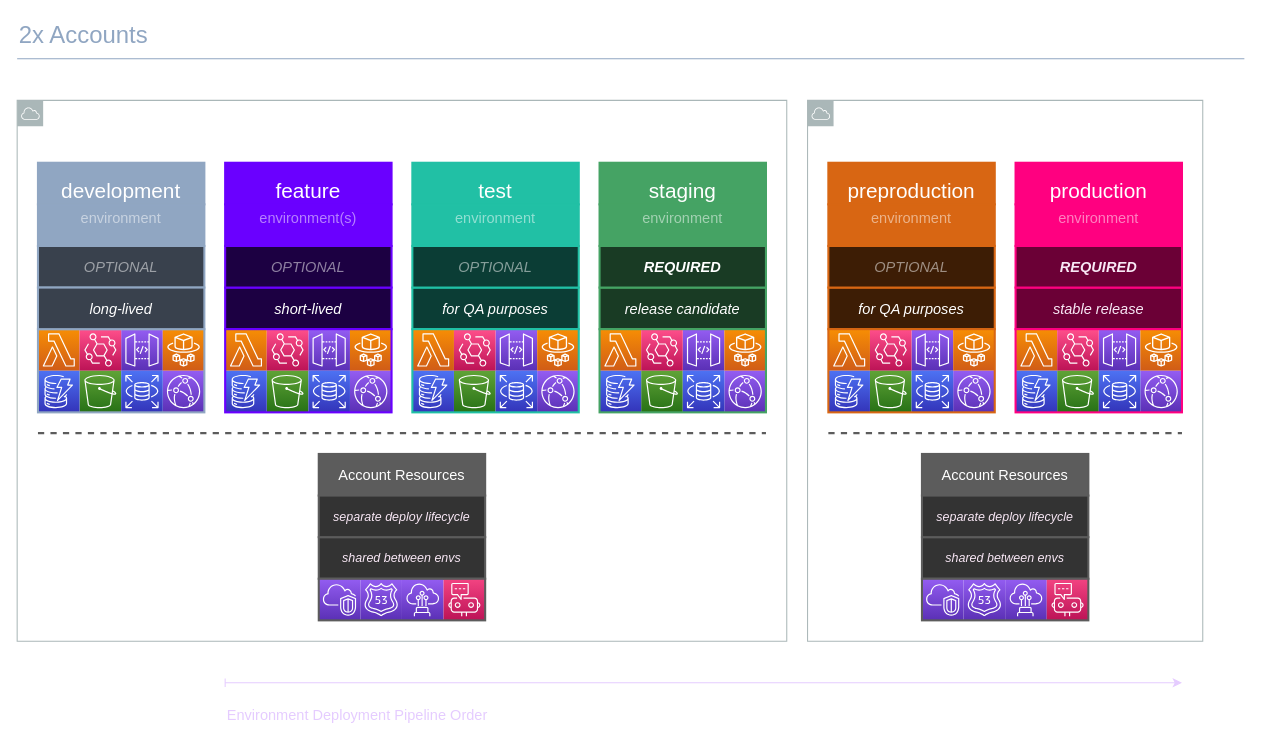
This 1262x742 diagram has some shape labels left out. The shapes that lost their labels are listed below. From the top down, each one's box as (x1, y1, x2, y2) in pixels, then its label:
(16, 99, 787, 641): dev account
(807, 99, 1203, 641): prod account
